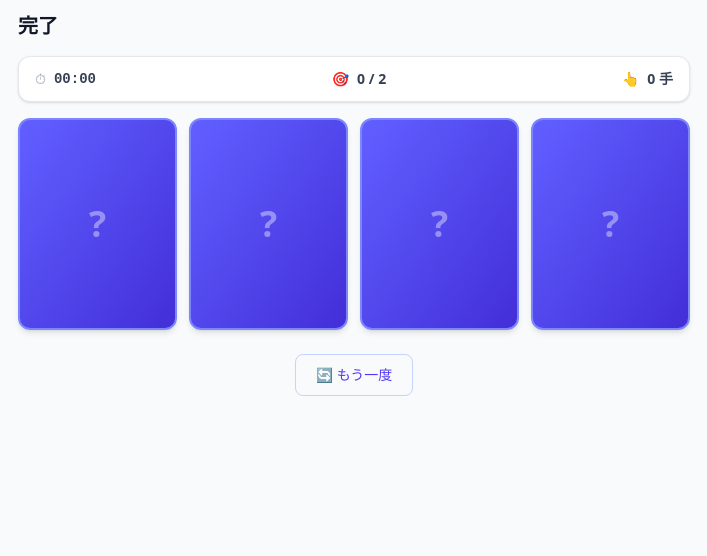
it: MatchingGame › shows the completion (コンプリート) screen once every pair is matched
The image size is (707, 556).
Step 1. Click the button "? EN apple" → x=98, y=224, box x1=18 y1=118 x2=177 y2=330
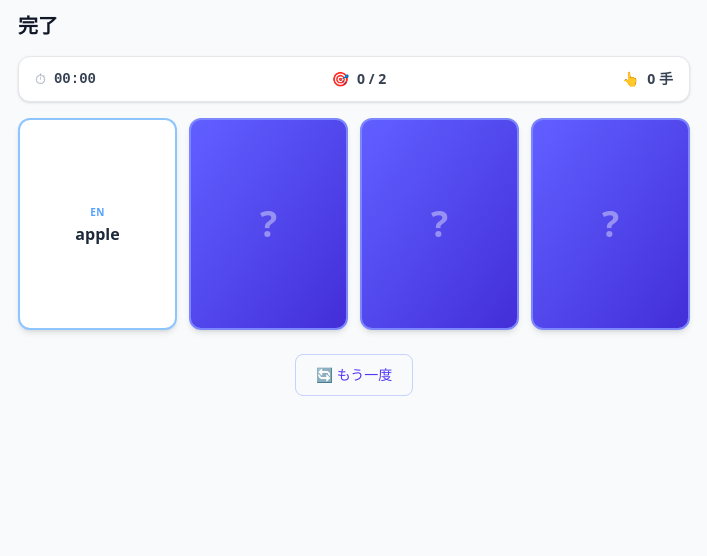
Step 2. Click the button "? JA りんご" → x=440, y=224, box x1=360 y1=118 x2=519 y2=330
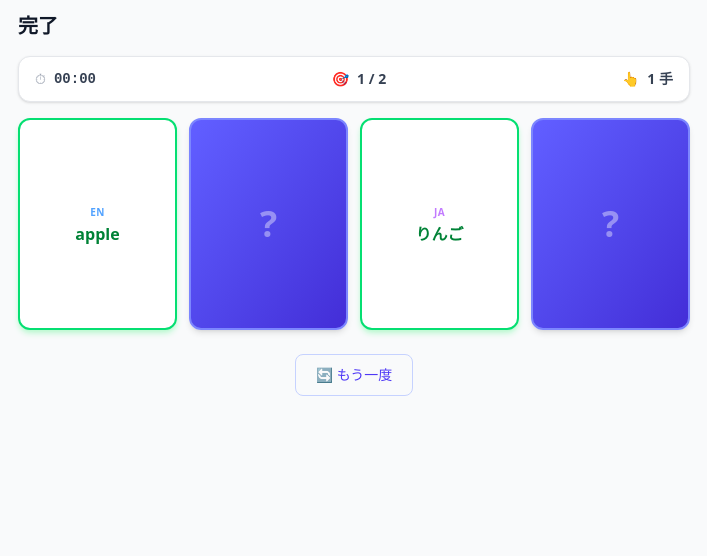
Now the text "1 / 2" is shown, box x1=357 y1=69 x2=386 y2=89
Step 3. Click the button "? EN dog" → x=610, y=224, box x1=531 y1=118 x2=690 y2=330
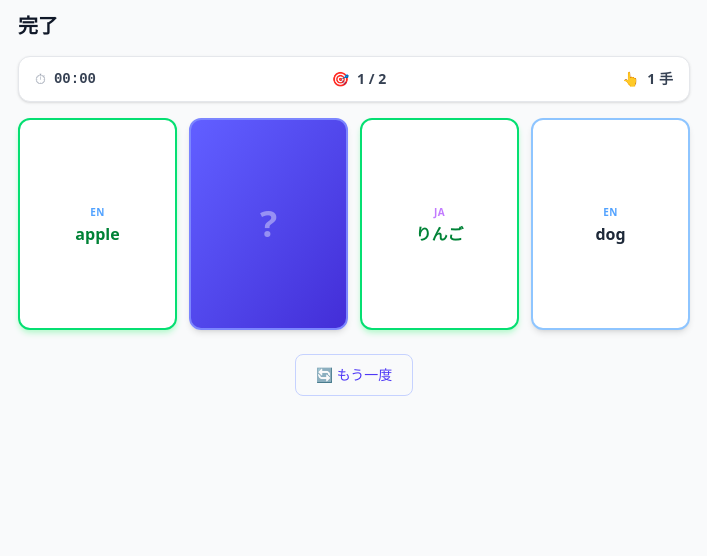
Step 4. Click the button "? JA いぬ" → x=268, y=224, box x1=189 y1=118 x2=348 y2=330
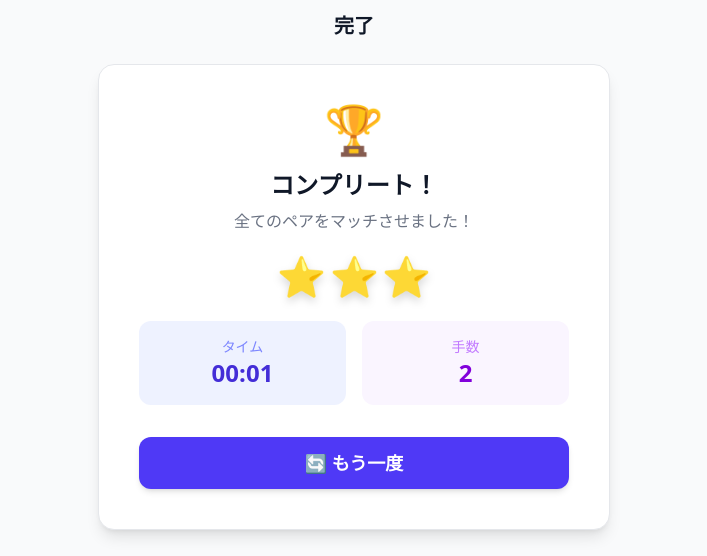
Now the heading "コンプリート！" is shown, box x1=270 y1=168 x2=438 y2=201
Now the text "タイム" is shown, box x1=222 y1=337 x2=263 y2=356
Now the text "手数" is shown, box x1=452 y1=337 x2=480 y2=356
